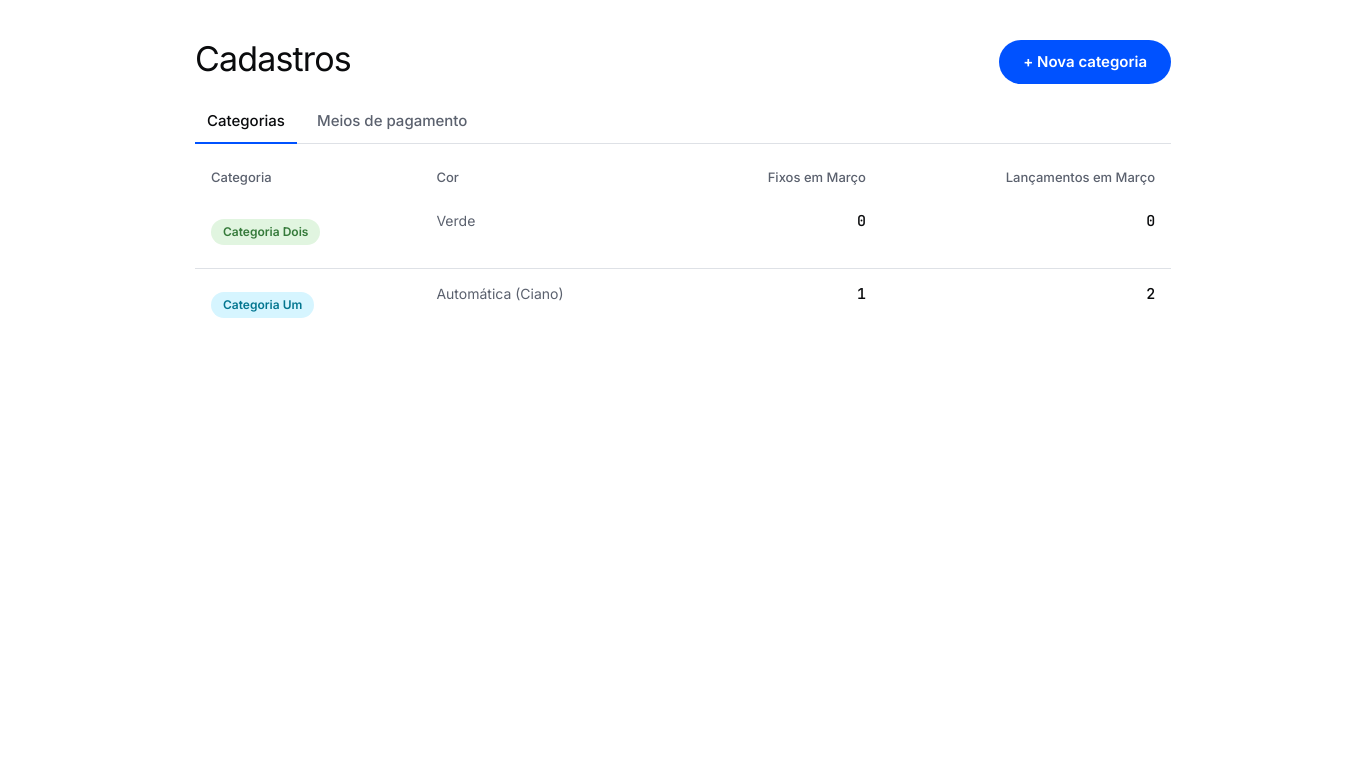
Test: fechar e o foco de volta (CADCOL-10, AC 4; CADCOL-11, AC 4; CADCOL-04, AC 15) › "Fechar" fecha, desmarca a linha, tira `?categoria=` e devolve o foco ao botão da linha
Step 1. Click the button "Categoria Um" → click(263, 304), box [211,282,314,326]
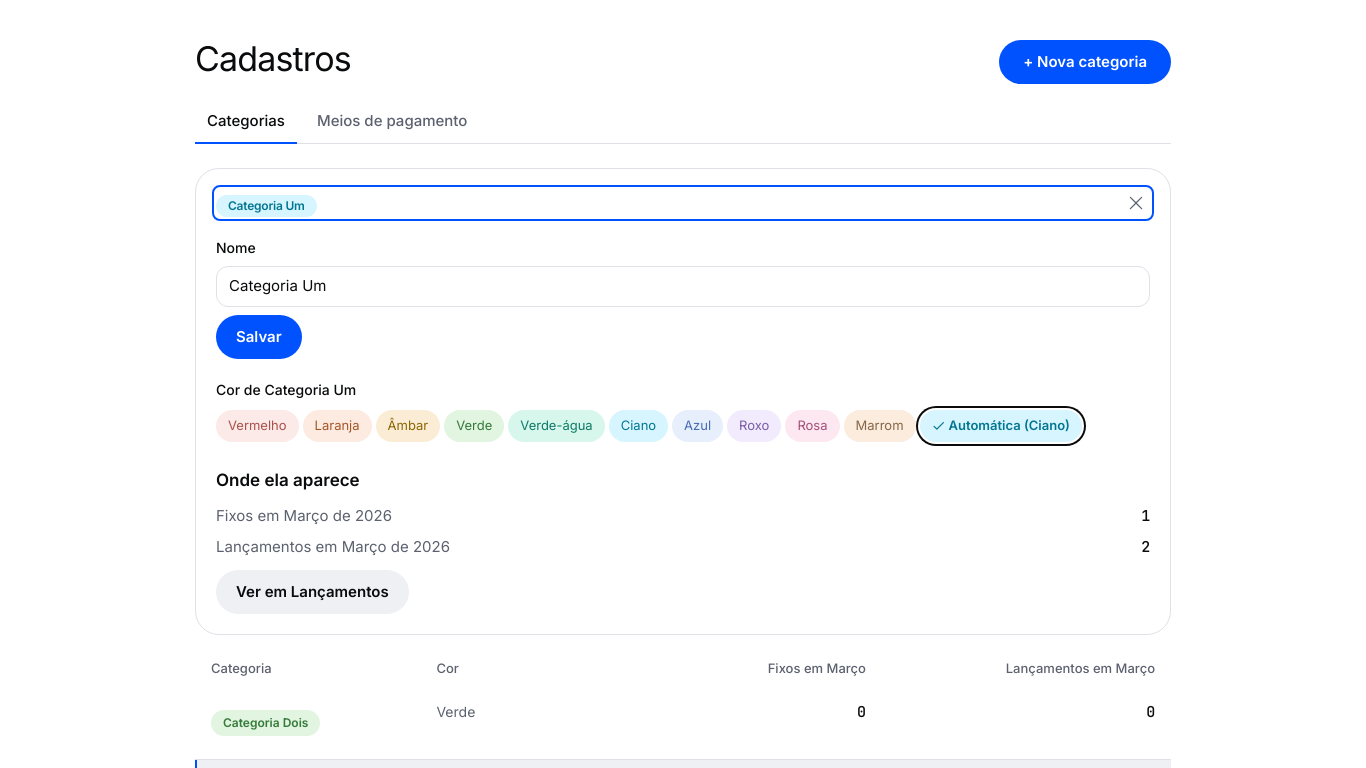
Step 2. Click the button named "Fechar" → click(1136, 203), box [1114,181,1158,225]
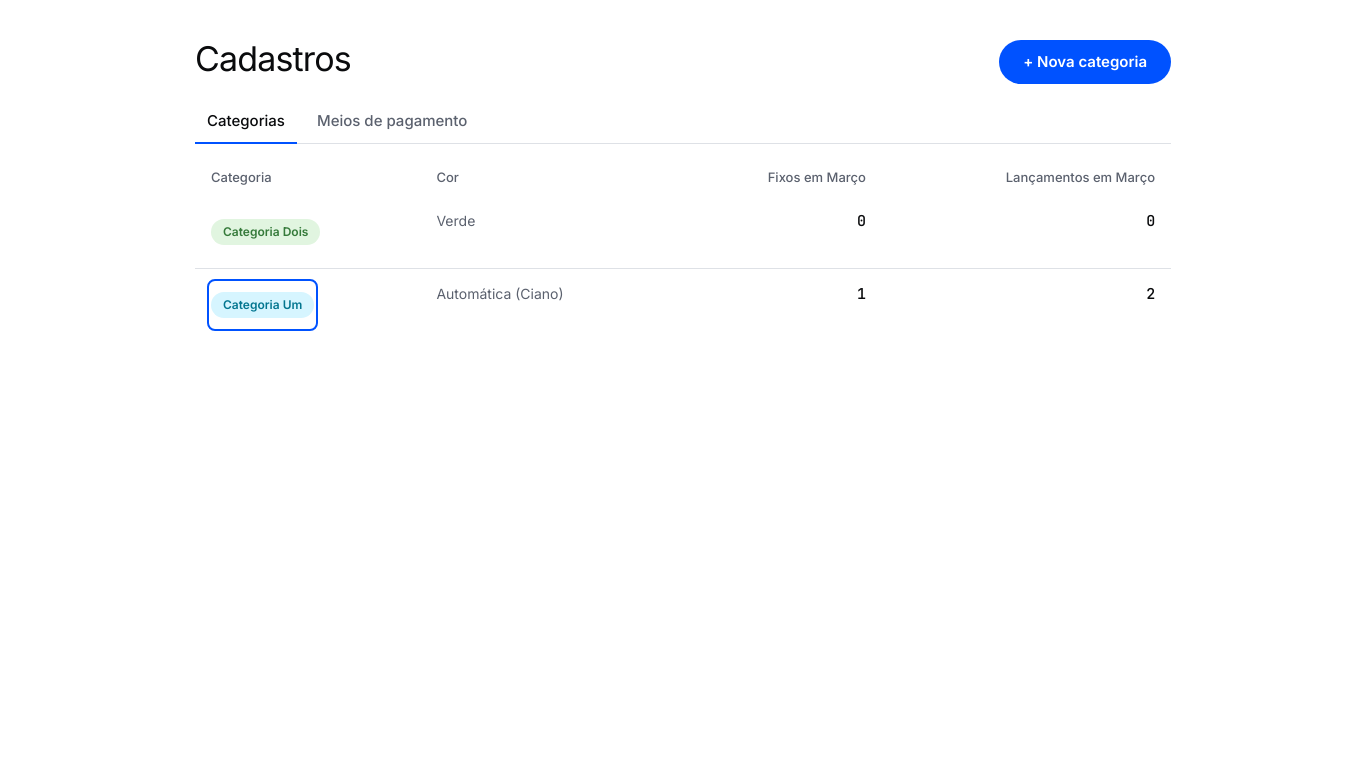
Result: the button "Categoria Um" is collapsed at [211,282,314,326]
